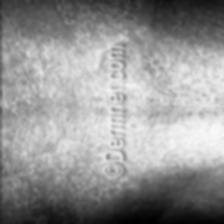Non-Cancerous Skin Condition: (0, 0, 103, 224), (127, 0, 224, 224)
